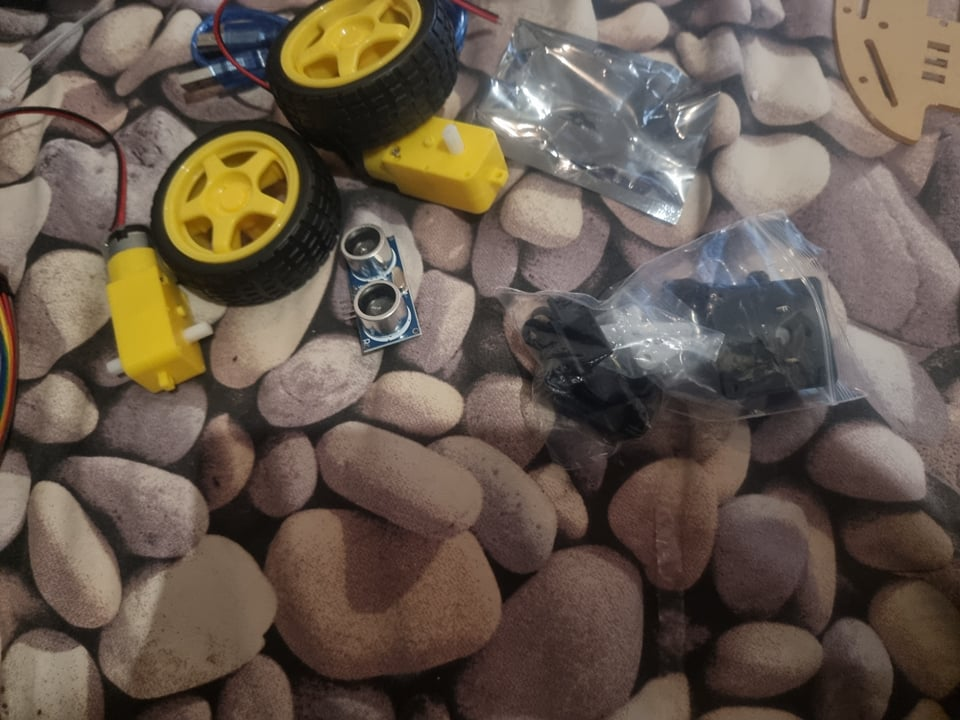SENSOR: (335, 225, 422, 348)
